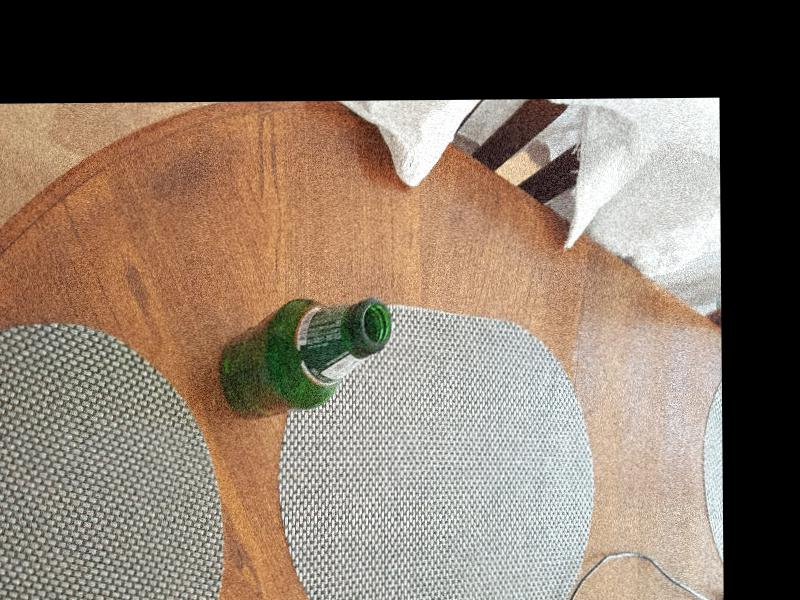Beer: (216, 298, 392, 416)
